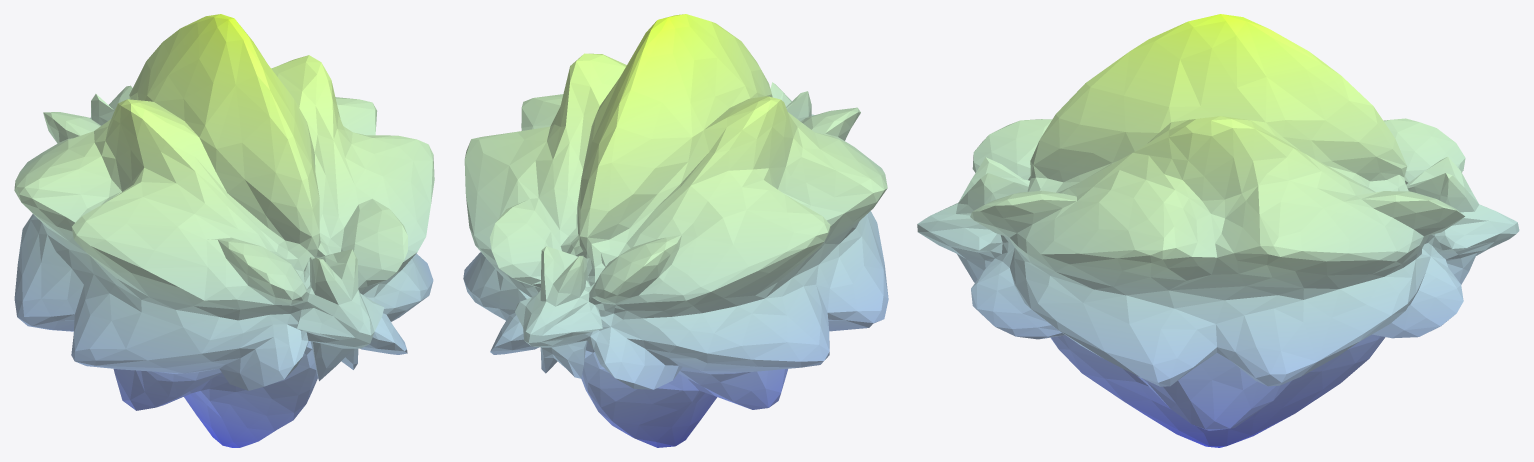
The model's file is 32_cyb_laser_gradient_fish_scales_2832_2026_10_03_bfba35.glb.
The picture shows the model from 3 angles, left to right: view 1: azimuth 30°, elevation 25°; view 2: azimuth 150°, elevation 25°; view 3: azimuth 270°, elevation 25°; orthographic projection. The views are drawn at different scales.
Parts seen in each view (by area): view 1: geometry_0; view 2: geometry_0; view 3: geometry_0.
Part boxes in pixels (box(x1,y1,x2,y2)): geometry_0: box(14, 14, 434, 447); geometry_0: box(463, 14, 888, 447); geometry_0: box(917, 14, 1519, 447).
Size of the model in its own units: 0.6884 by 0.7831 by 0.9805.
